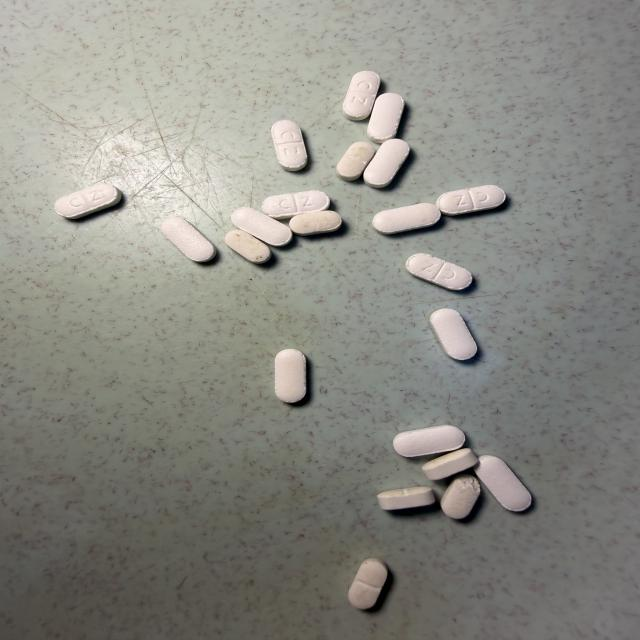pill: (475, 456, 531, 511), (430, 308, 477, 360), (162, 218, 216, 262), (406, 254, 472, 290), (54, 184, 121, 219), (231, 208, 292, 246), (363, 139, 409, 188), (393, 425, 465, 456), (437, 185, 505, 215), (373, 204, 440, 234), (348, 559, 388, 609), (263, 191, 329, 219), (343, 71, 380, 120), (367, 93, 404, 142), (422, 448, 478, 480), (272, 120, 307, 171), (441, 474, 480, 519), (275, 349, 306, 403), (225, 229, 271, 263), (337, 142, 375, 181), (378, 487, 435, 510), (290, 211, 342, 235)
